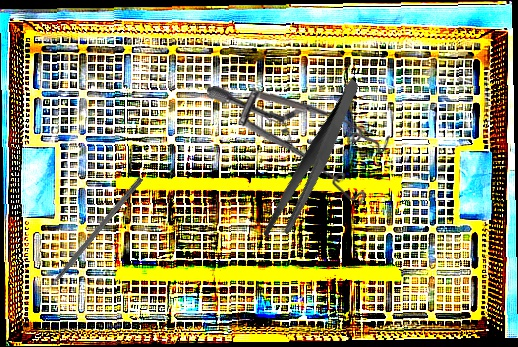Dressing Forceps: (233, 78, 395, 247)
Hook Surgical: (39, 175, 144, 298)
Speculum: (206, 83, 392, 207)
